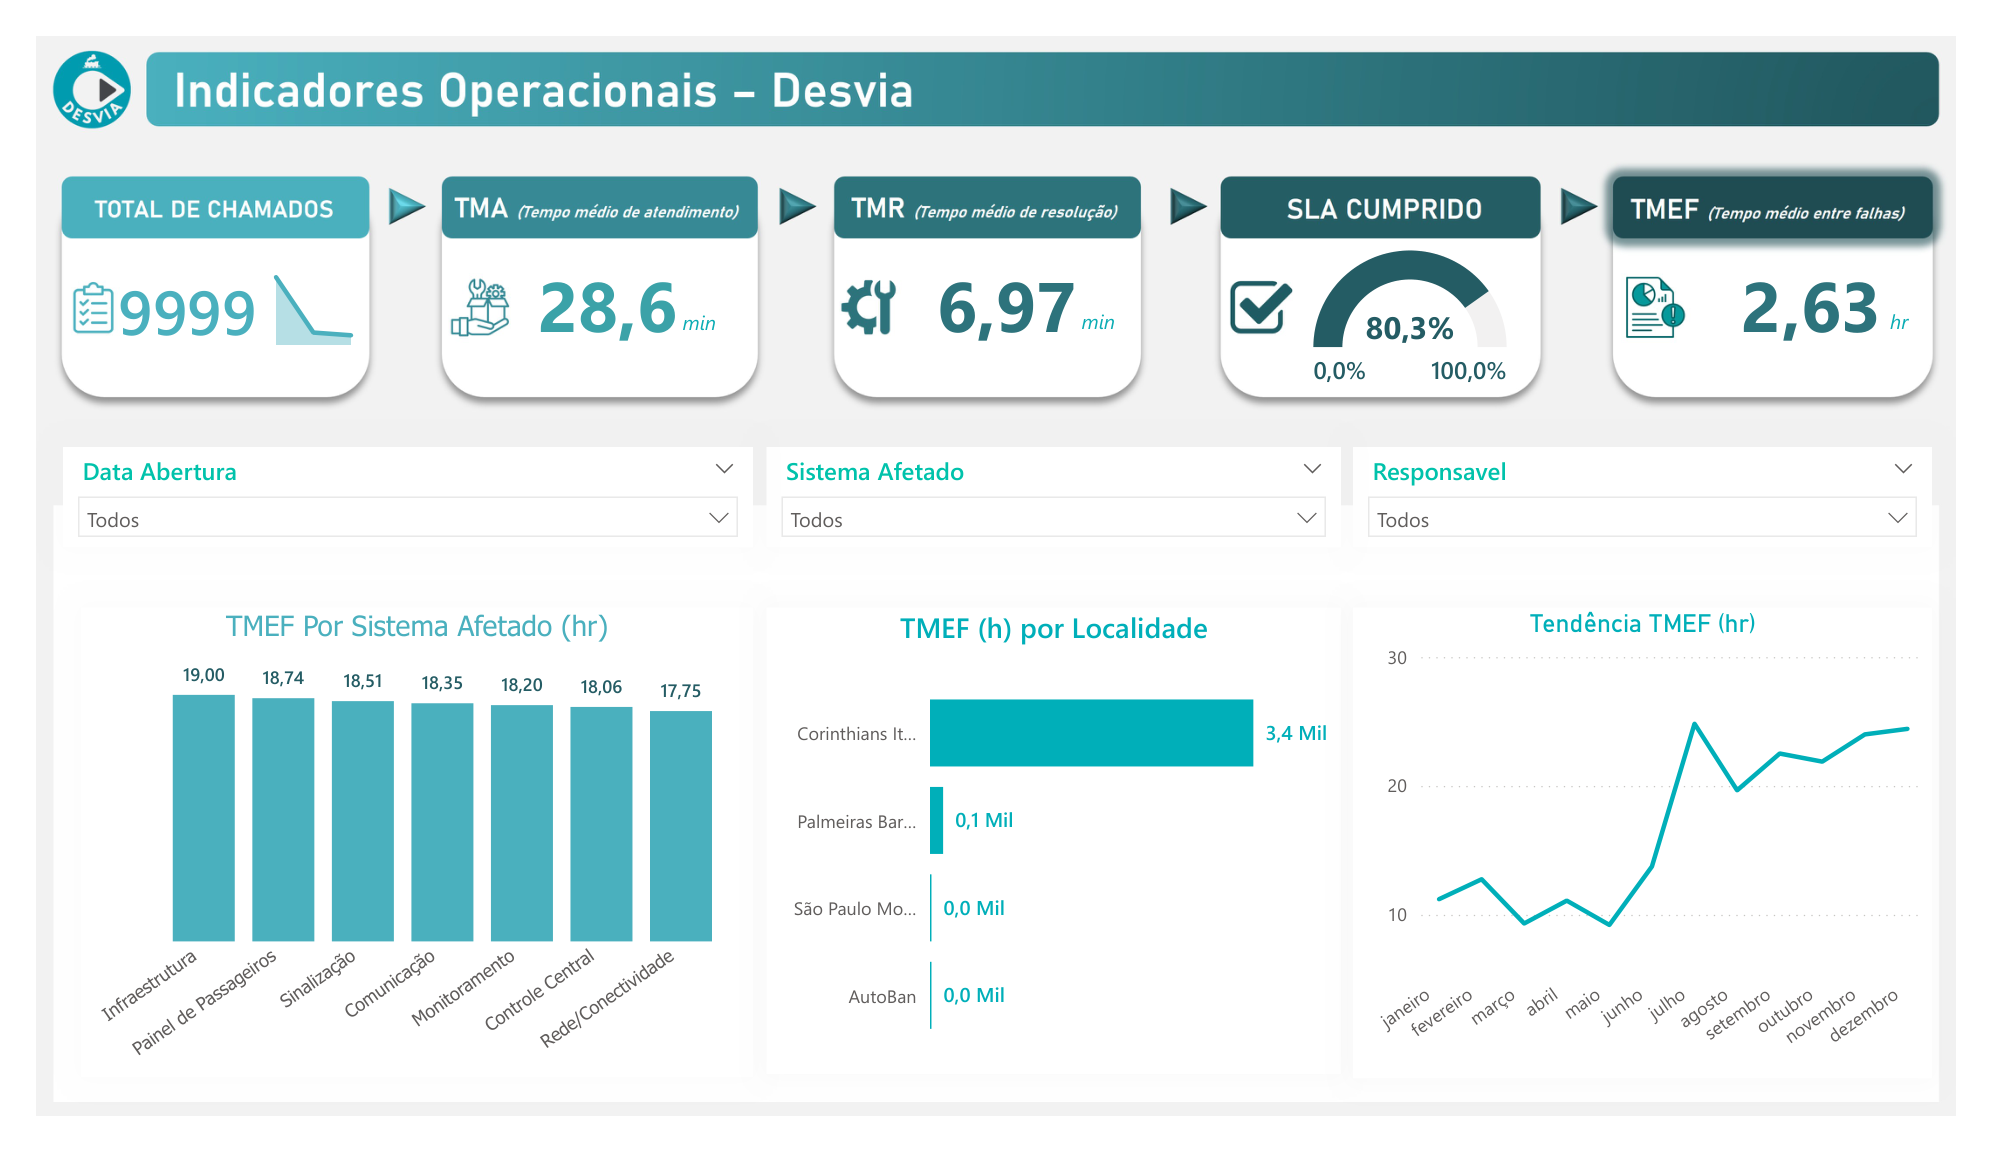

Layout of this report page (visuals, bound fields, positions):
{"tool":"powerbi","page":{"name":"TMEF","canvas":[1280,720],"ordinal":6},"visuals":[{"type":"card","fields":{"Values":["BaseDados.Total de Chamados"]},"box":[42.7,155.2,116.4,55.6],"z":0},{"type":"stackedAreaChart","fields":{"Y":["CountNonNull(BaseDados.ID Chamado)"],"Category":["BaseDados.Data Abertura.Variation.Hierarquia de datas.Ano"]},"box":[144.8,134.5,80.2,76.3],"z":1000},{"type":"card","fields":{"Values":["BaseDados.Tempo Médio de Resolução h (TMR)"]},"box":[552.2,128,190.1,99.6],"z":2000},{"type":"card","fields":{"Values":["BaseDados.TMA - Tempo Médio Atendimento (H)"]},"box":[284.5,134.5,192.7,87.9],"z":3000},{"type":"gauge","fields":{"Y":["BaseDados.% SLA Cumprido"]},"box":[813.4,138.4,205.6,106],"z":4000},{"type":"shape","box":[18.1,95.3,206.3,38.6],"z":5000},{"type":"shape","box":[271.4,95.3,206.3,38.6],"z":6000},{"type":"shape","box":[536.9,95.3,206.3,38.6],"z":7000},{"type":"shape","box":[793.8,95.3,206.3,38.6],"z":8000},{"type":"card","fields":{"Values":["BaseDados.TMEF (h)"]},"box":[1088.5,127.9,190.3,99.6],"z":9000},{"type":"columnChart","title":"TMEF Por Sistema Afetado (hr)","fields":{"Category":["BaseDados.Sistema Afetado"],"Y":["BaseDados.TMEF (h)"]},"box":[30.2,381.2,447.6,312.5],"z":10000},{"type":"slicer","fields":{"Values":["BaseDados.Responsavel"]},"box":[878.3,273.9,386.1,67.6],"z":11000},{"type":"slicer","fields":{"Values":["BaseDados.Sistema Afetado"]},"box":[487.4,273.9,382.4,67.6],"z":12000},{"type":"slicer","fields":{"Values":["BaseDados.Data Abertura"]},"box":[18.1,273.9,459.7,67.6],"z":13000},{"type":"barChart","fields":{"Y":["BaseDados.TMEF (h)"],"Category":["BaseDados.Localidade"]},"box":[487.4,381.2,382.4,311.3],"z":14000},{"type":"lineChart","title":"Tendência TMEF (hr)","fields":{"Category":["BaseDados.Data Abertura.Variation.Hierarquia de datas.Mês"],"Y":["BaseDados.TMEF (h)"]},"box":[878,381,386,314],"z":15000},{"type":"textbox","box":[425.9,177.3,63.9,35],"z":15001},{"type":"textbox","box":[692.5,176.1,63.9,35],"z":15002},{"type":"textbox","box":[1230.5,176.1,49.5,35],"z":15003}]}

Visuals, with their boxes in screenshot pixels (x1, y1, x2, y2), scaled from the page's 1280x720 canvas onto the 1992x1152 screenshot:
card - BaseDados.Total de Chamados: 66:248:248:337
stackedAreaChart - CountNonNull(BaseDados.ID Chamado) x BaseDados.Data Abertura.Variation.Hierarquia de datas.Ano: 225:215:350:337
card - BaseDados.Tempo Médio de Resolução h (TMR): 859:205:1155:364
card - BaseDados.TMA - Tempo Médio Atendimento (H): 443:215:743:356
gauge - BaseDados.% SLA Cumprido: 1266:221:1586:391
shape: 28:152:349:214
shape: 422:152:743:214
shape: 836:152:1157:214
shape: 1235:152:1556:214
card - BaseDados.TMEF (h): 1694:205:1990:364
"TMEF Por Sistema Afetado (hr)" columnChart: 47:610:744:1110
slicer - BaseDados.Responsavel: 1367:438:1968:546
slicer - BaseDados.Sistema Afetado: 759:438:1354:546
slicer - BaseDados.Data Abertura: 28:438:744:546
barChart - BaseDados.TMEF (h) x BaseDados.Localidade: 759:610:1354:1108
"Tendência TMEF (hr)" lineChart: 1366:610:1967:1112
textbox: 663:284:762:340
textbox: 1078:282:1177:338
textbox: 1915:282:1991:338
